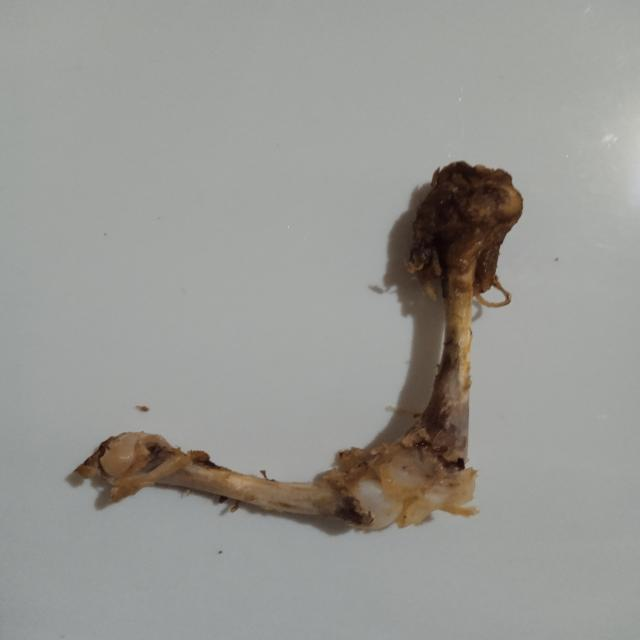bone: (54, 148, 546, 538)
